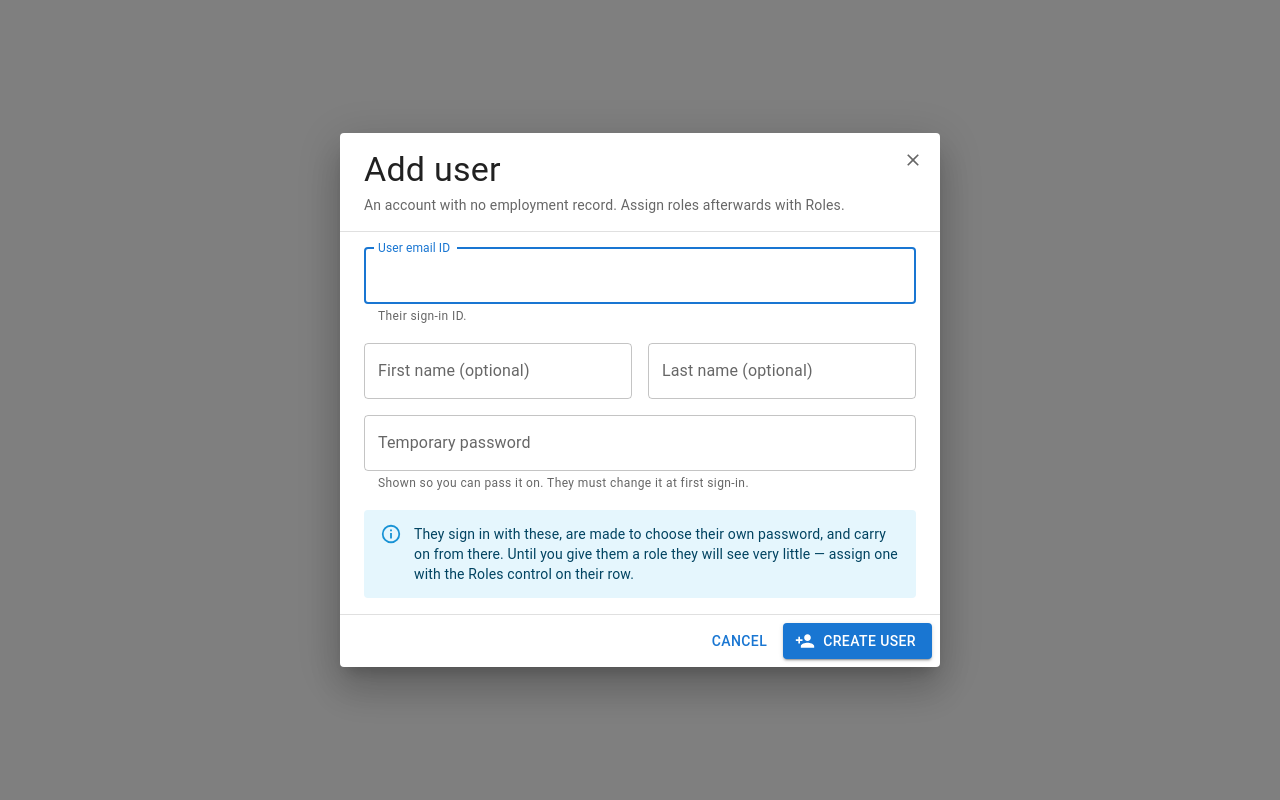
AddUserDialog › will not submit a password too short to be one
This screenshot has width=1280, height=800.
Type "new@trigyan.io" into the field labelled "User email ID" at (640, 276), box [364, 248, 916, 304]
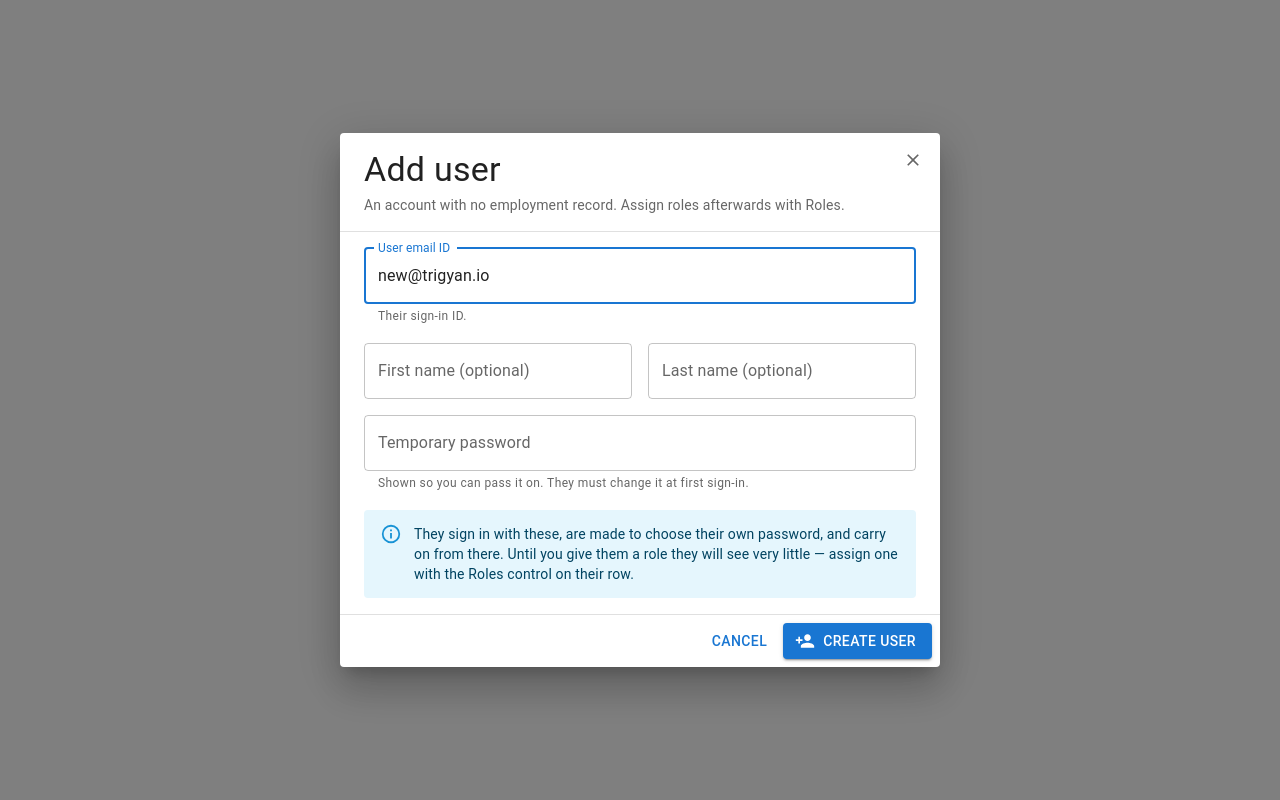
Type "short" into the field labelled "Temporary password" at (640, 443), box [364, 415, 916, 471]
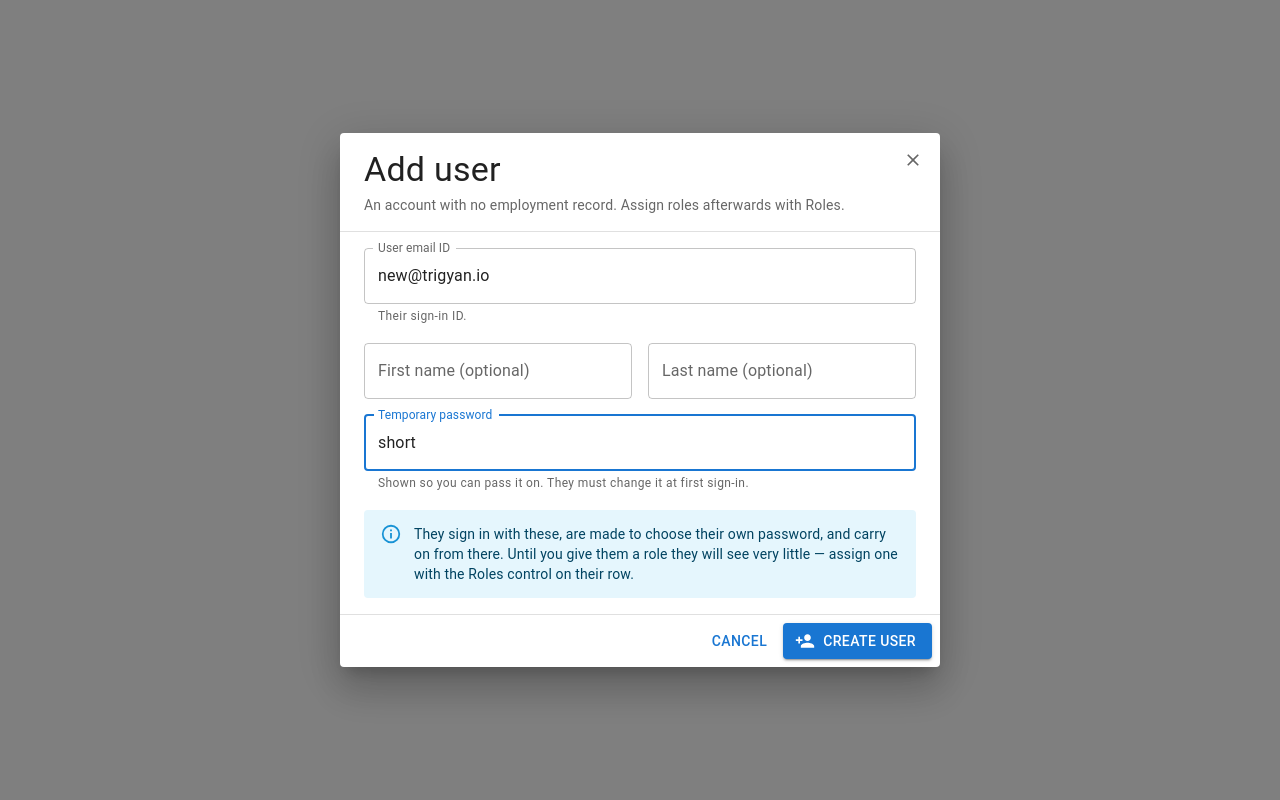
Click the button "Create user" at (858, 641), box [783, 623, 932, 659]
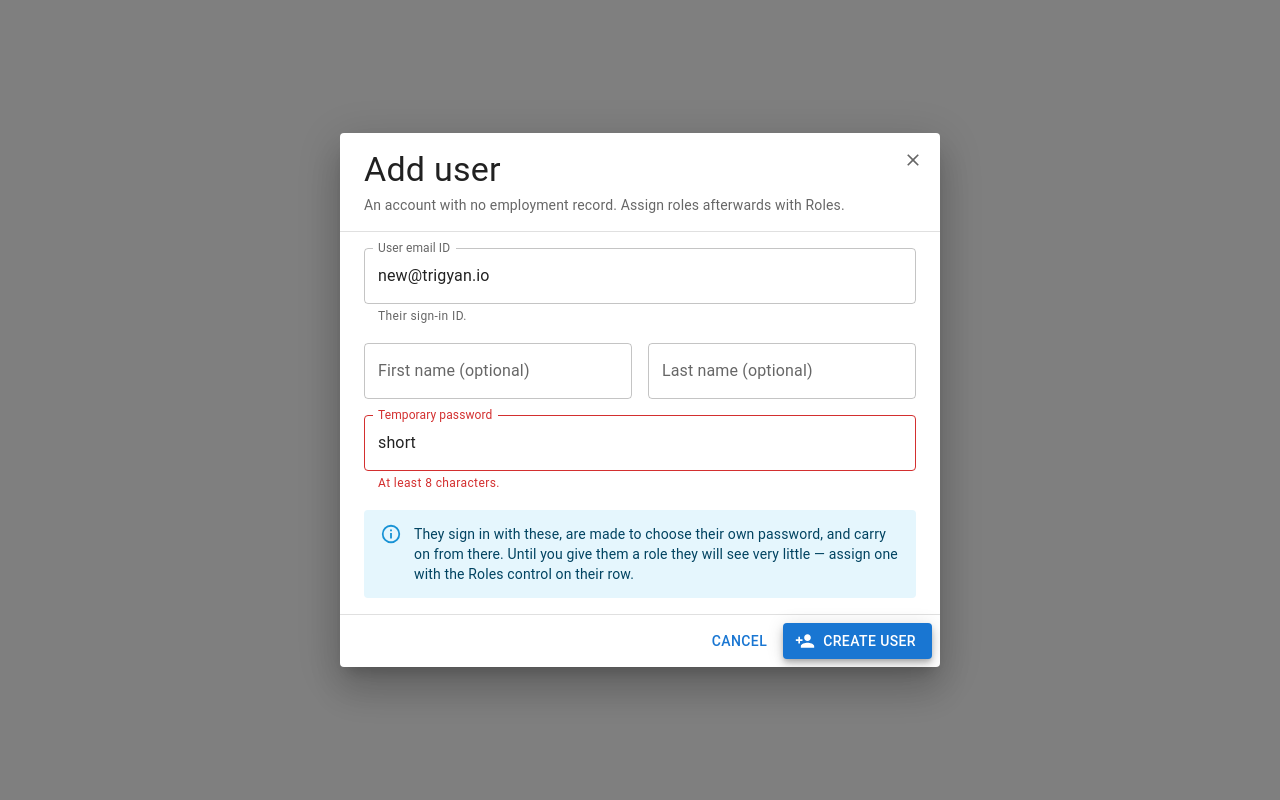
Expected: the text "At least 8 characters." is shown, [378, 476, 500, 490]
